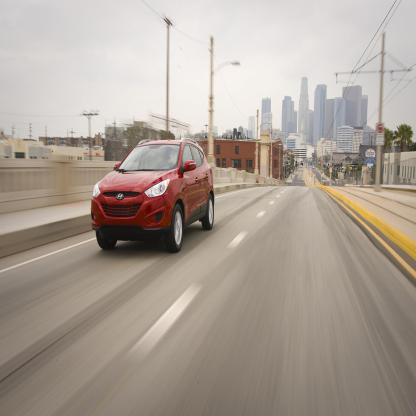Vehicle: (90, 137, 214, 253)
